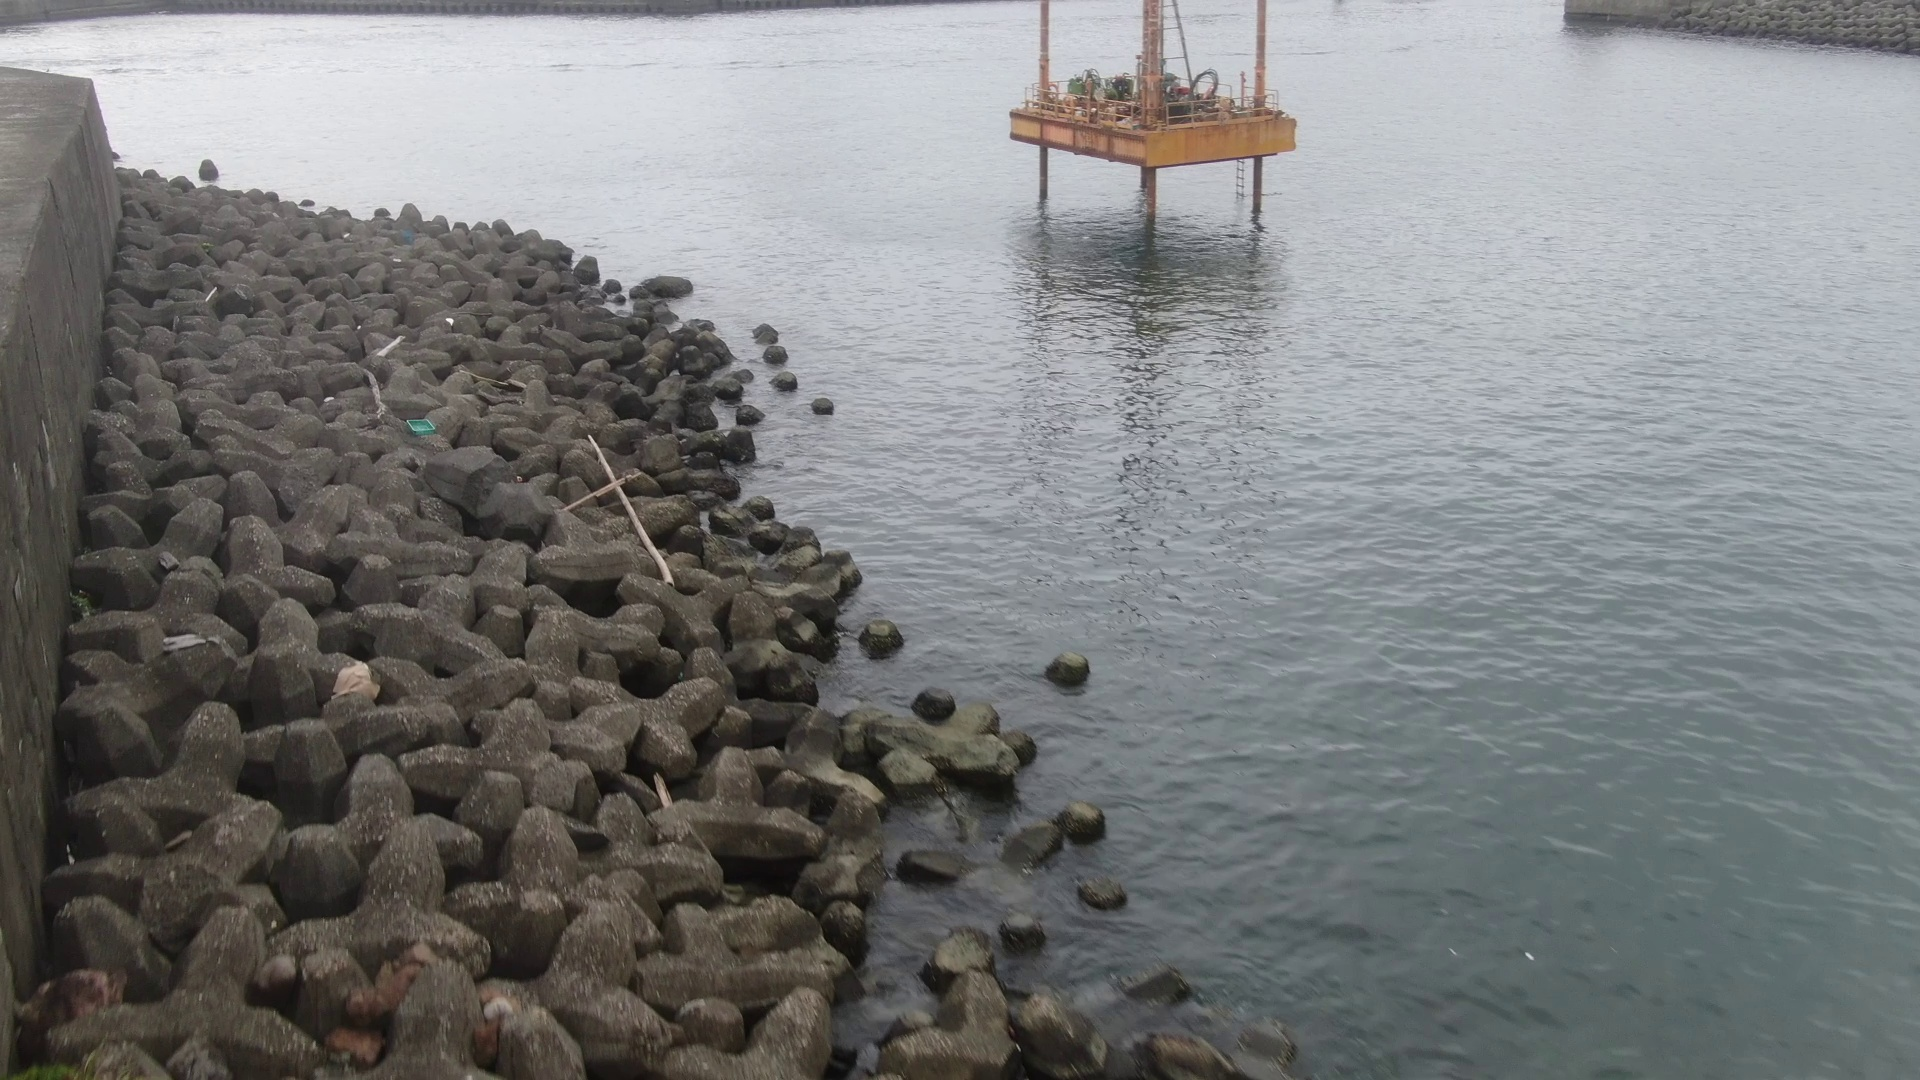garbage: (327, 655, 389, 708), (402, 411, 440, 440)
